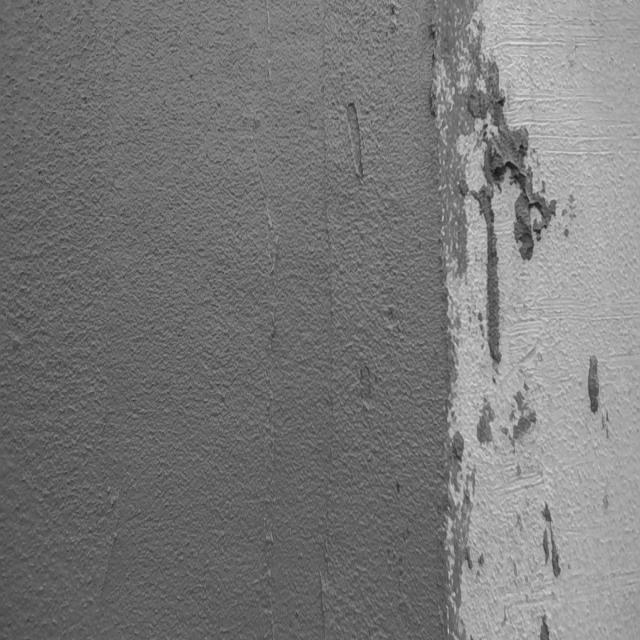trowels marks: (318, 108, 336, 628), (265, 152, 278, 638)
